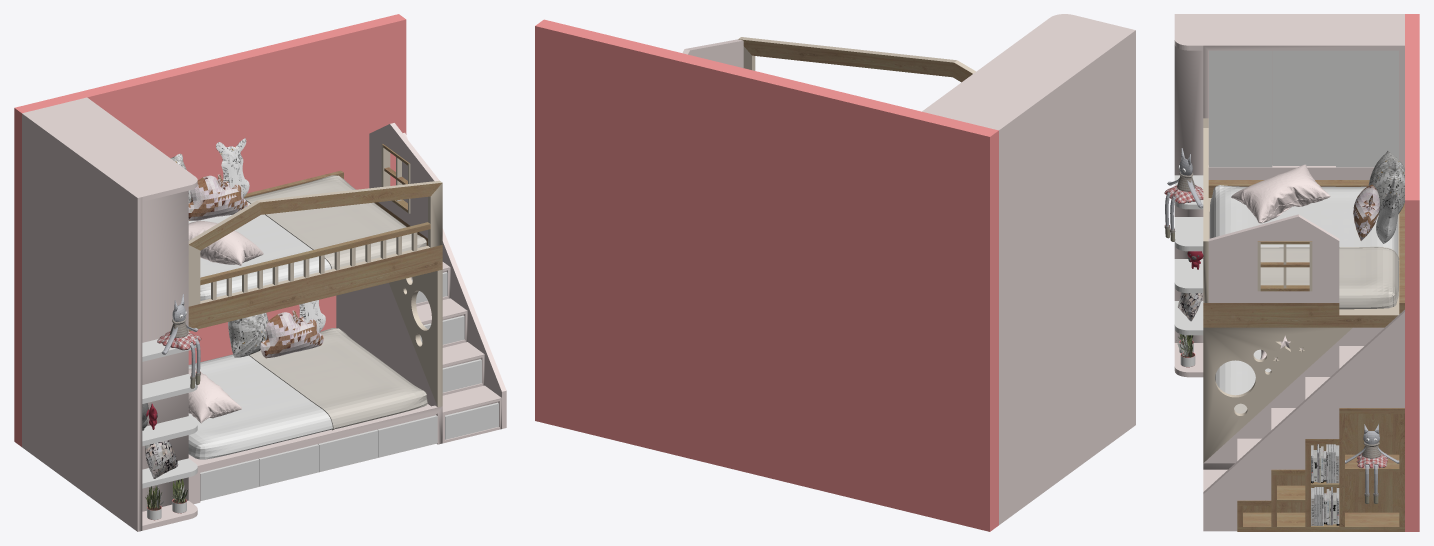
File: kid_bedroom_001_1.glb
3 renders of one model, left to right at view 1: azimuth 30°, elevation 25°; view 2: azimuth 150°, elevation 25°; view 3: azimuth 270°, elevation 25°, orthographic. The views are drawn at different scales.
Parts seen in each view (by area): view 1: mesh_164_ROOT__Component_283972__Component_283960__Component, mesh_0_ROOT__Component_283973_Layer0, mesh_105_ROOT__Component_283972__Component_283967__Box002_La, mesh_106_ROOT__Component_283972__Component_283967__Box006_La, mesh_272_ROOT__Component_283972__Component_283962_Layer0_188, mesh_157_ROOT__Component_283972__Component_283960__Component, mesh_129_ROOT__Component_283972__Component_283957__Box002_La, mesh_273_ROOT__Component_283971_Layer0, mesh_130_ROOT__Component_283972__Component_283957__Box006_La, mesh_128_ROOT__Component_283972__Component_283959_Layer0, mesh_15_ROOT__Component_283972__Component_283961__Component_, mesh_126_ROOT__Component_283972__Component_283963_Layer0_188 (+28 smaller); view 2: mesh_0_ROOT__Component_283973_Layer0, mesh_164_ROOT__Component_283972__Component_283960__Component, mesh_157_ROOT__Component_283972__Component_283960__Component, mesh_126_ROOT__Component_283972__Component_283963_Layer0_188, mesh_152_ROOT__Component_283972__Component_283960__Component, mesh_127_ROOT__Component_283972__Component_283965_Layer0, mesh_125_ROOT__Component_283972__Component_283963_Layer0_188; view 3: mesh_16_ROOT__Component_283972__Component_283958_Layer0_221_, mesh_17_ROOT__Component_283972__Component_283958_Layer0_188_, mesh_164_ROOT__Component_283972__Component_283960__Component, mesh_128_ROOT__Component_283972__Component_283959_Layer0, mesh_0_ROOT__Component_283973_Layer0, mesh_161_ROOT__Component_283972__Component_283960__Component, mesh_127_ROOT__Component_283972__Component_283965_Layer0, mesh_162_ROOT__Component_283972__Component_283960__Component, mesh_163_ROOT__Component_283972__Component_283960__Component, mesh_272_ROOT__Component_283972__Component_283962_Layer0_188, mesh_129_ROOT__Component_283972__Component_283957__Box002_La, mesh_130_ROOT__Component_283972__Component_283957__Box006_La (+25 smaller).
Boxes of the visible parts, box(x1,y1,x2,y2) form: mesh_164_ROOT__Component_283972__Component_283960__Component: box(22, 97, 188, 520); mesh_0_ROOT__Component_283973_Layer0: box(14, 14, 406, 446); mesh_105_ROOT__Component_283972__Component_283967__Box002_La: box(249, 328, 427, 430); mesh_106_ROOT__Component_283972__Component_283967__Box006_La: box(188, 354, 332, 459); mesh_272_ROOT__Component_283972__Component_283962_Layer0_188: box(188, 170, 442, 331); mesh_157_ROOT__Component_283972__Component_283960__Component: box(123, 186, 142, 531); mesh_129_ROOT__Component_283972__Component_283957__Box002_La: box(244, 175, 426, 268); mesh_273_ROOT__Component_283971_Layer0: box(336, 283, 437, 406); mesh_130_ROOT__Component_283972__Component_283957__Box006_La: box(188, 201, 331, 300); mesh_128_ROOT__Component_283972__Component_283959_Layer0: box(389, 269, 442, 407); mesh_15_ROOT__Component_283972__Component_283961__Component_: box(188, 400, 442, 504); mesh_126_ROOT__Component_283972__Component_283963_Layer0_188: box(189, 183, 441, 250); mesh_0_ROOT__Component_283973_Layer0: box(535, 19, 998, 531); mesh_164_ROOT__Component_283972__Component_283960__Component: box(922, 24, 1118, 524); mesh_157_ROOT__Component_283972__Component_283960__Component: box(1113, 29, 1135, 437); mesh_126_ROOT__Component_283972__Component_283963_Layer0_188: box(739, 39, 972, 82); mesh_152_ROOT__Component_283972__Component_283960__Component: box(1042, 14, 1129, 40); mesh_127_ROOT__Component_283972__Component_283965_Layer0: box(682, 39, 743, 67); mesh_125_ROOT__Component_283972__Component_283963_Layer0_188: box(738, 37, 975, 73); mesh_16_ROOT__Component_283972__Component_283958_Layer0_221_: box(1203, 309, 1404, 531); mesh_17_ROOT__Component_283972__Component_283958_Layer0_188_: box(1237, 408, 1404, 531); mesh_164_ROOT__Component_283972__Component_283960__Component: box(1203, 14, 1404, 179); mesh_128_ROOT__Component_283972__Component_283959_Layer0: box(1203, 327, 1352, 462); mesh_0_ROOT__Component_283973_Layer0: box(1405, 14, 1419, 531); mesh_161_ROOT__Component_283972__Component_283960__Component: box(1209, 50, 1272, 167); mesh_127_ROOT__Component_283972__Component_283965_Layer0: box(1208, 214, 1339, 302); mesh_162_ROOT__Component_283972__Component_283960__Component: box(1272, 50, 1335, 165); mesh_163_ROOT__Component_283972__Component_283960__Component: box(1336, 50, 1398, 167); mesh_272_ROOT__Component_283972__Component_283962_Layer0_188: box(1203, 180, 1404, 327); mesh_129_ROOT__Component_283972__Component_283957__Box002_La: box(1260, 246, 1399, 309); mesh_130_ROOT__Component_283972__Component_283957__Box006_La: box(1209, 185, 1398, 303).
Size of the model in its own units: 3265 by 2688 by 1878.
Materials: 40 (29 with a texture image).
